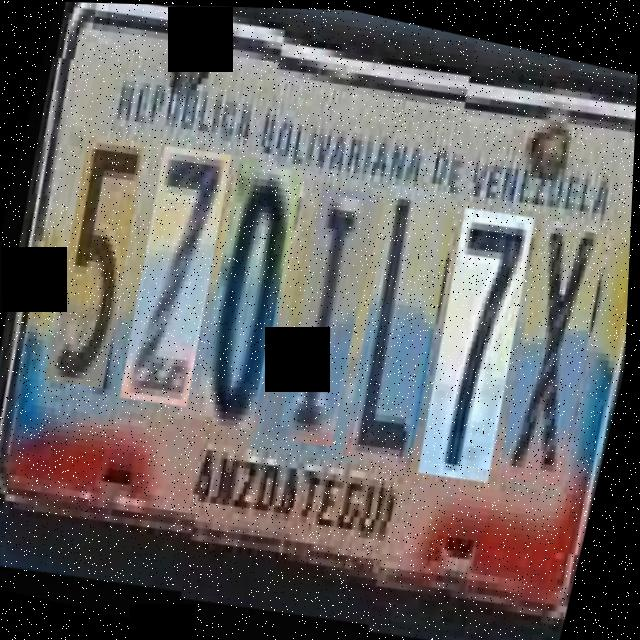5: (31, 130, 157, 394)
7: (404, 193, 547, 480)
I: (264, 179, 388, 448)
L: (328, 176, 470, 467)
O: (180, 153, 315, 431)
X: (484, 205, 620, 484)
Z: (106, 141, 242, 413)
